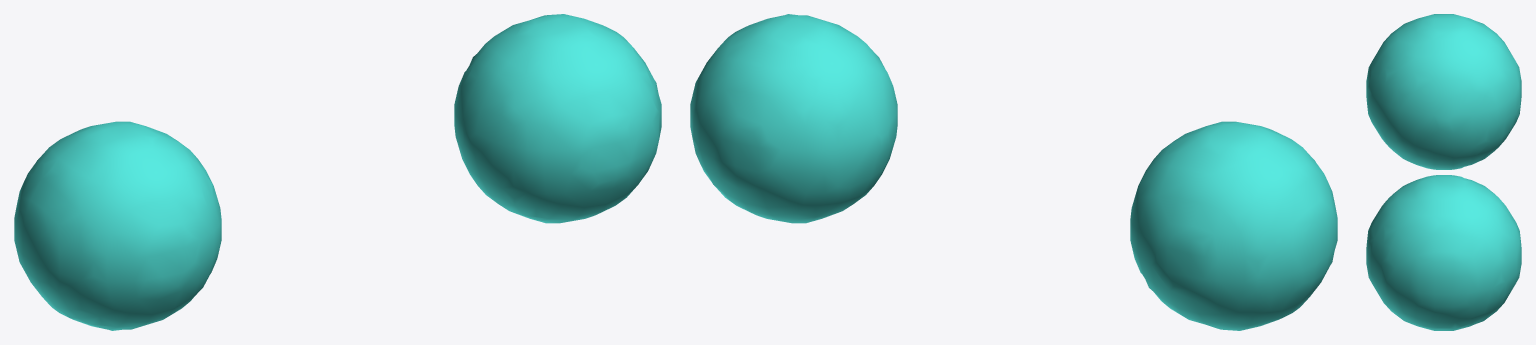
File: de_ogen.fbx
3 views of the same model, side by side, from view 1: azimuth 30°, elevation 25°; view 2: azimuth 150°, elevation 25°; view 3: azimuth 270°, elevation 25° (orthographic). The views are drawn at different scales.
Visible parts, largest first — view 1: high, high 2; view 2: high 2, high; view 3: high, high 2.
Part boxes in pixels (bbox=[...]): high: bbox=[14, 121, 221, 330]; high 2: bbox=[454, 14, 661, 223]; high 2: bbox=[690, 14, 897, 223]; high: bbox=[1130, 121, 1337, 330]; high: bbox=[1366, 14, 1521, 169]; high 2: bbox=[1366, 175, 1521, 330].
Size of the model in its own units: 0.1032 by 0.0298 by 0.0298.
